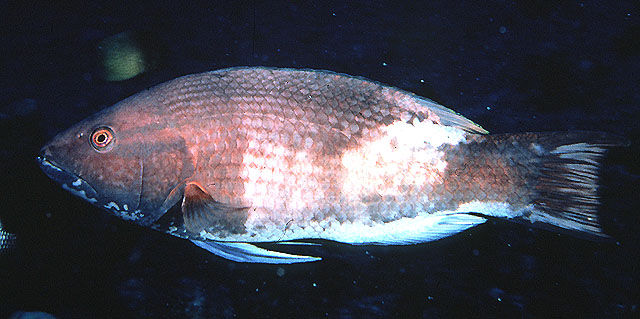fish: (37, 66, 611, 264)
